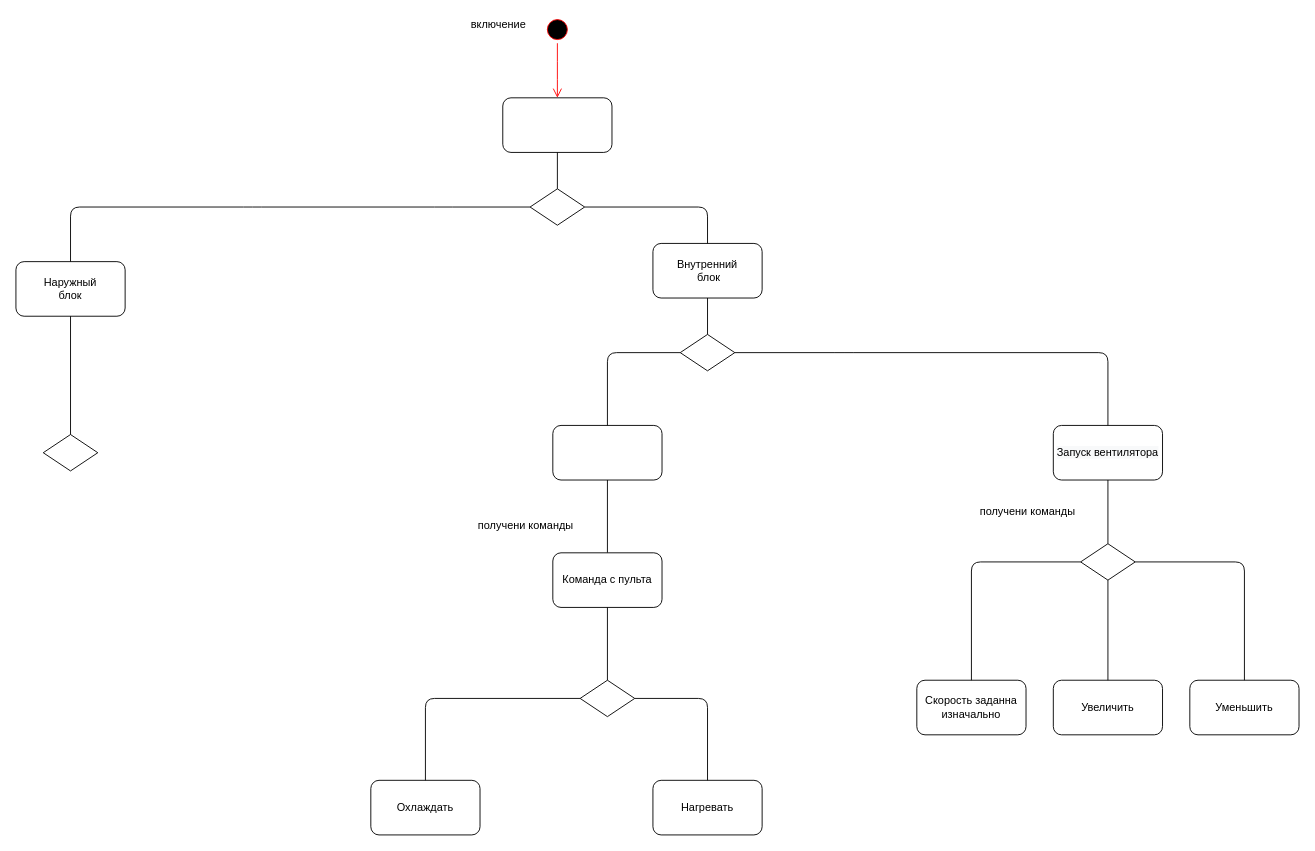
Image size: 1315x851. Some labels were removed from this diagram. Each missing label, with the box of its shape:
Запуск наружного и внутреннего блоков: (502, 97, 612, 152)
Температура заданна изначально: (552, 425, 662, 480)
